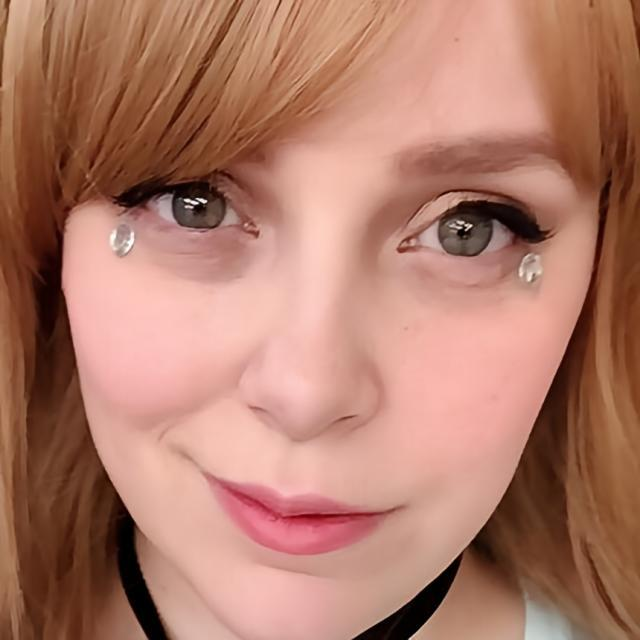content: (59, 1, 600, 640)
